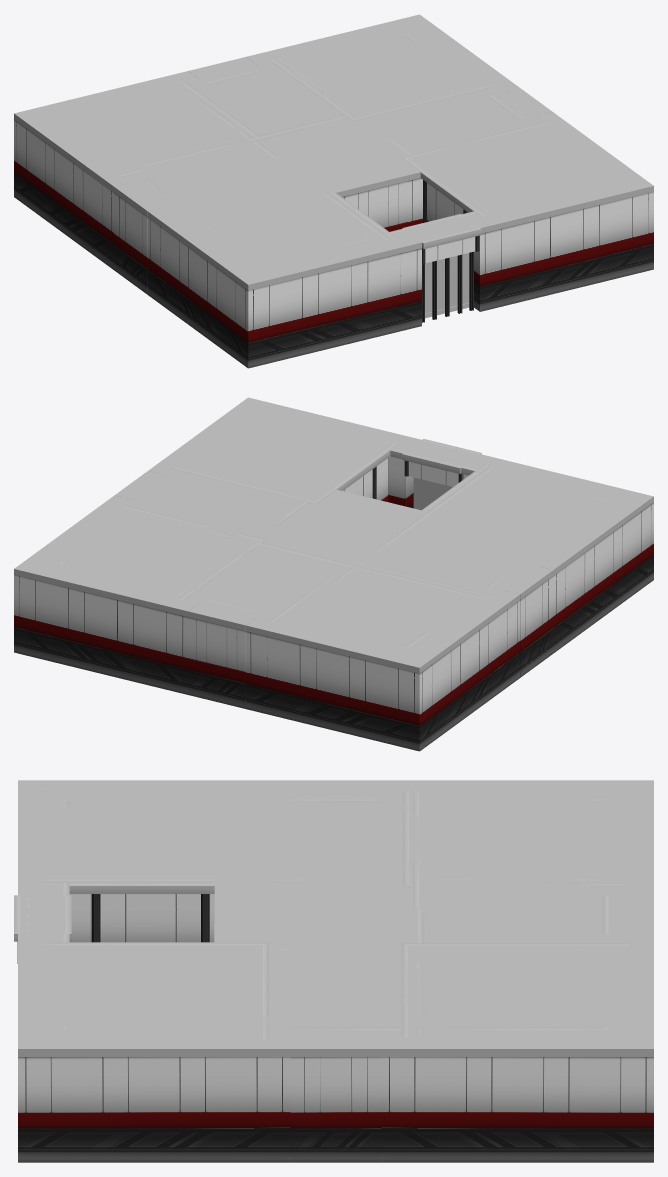
Rendered from RoomPrison.FBX.
3 views of the same model, one above another, from view 1: azimuth 30°, elevation 25°; view 2: azimuth 150°, elevation 25°; view 3: azimuth 270°, elevation 25° (orthographic). The views are drawn at different scales.
Visible parts, largest first — view 1: Wall0 (×8), Wall2 (×4), Box501, Box496, Box503, Wall3, Wall1 (×2), Box204, Box205, Box098, Box206; view 2: Wall0 (×8), Wall2 (×4), Box501, Box496, Box503, Wall1 (×2), Wall3, Box204, Box205, Box098; view 3: Wall0 (×8), Wall2 (×4), Box501, Box496, Box503, Box098, Wall3, Wall1 (×2), Box204.
Boxes of the visible parts, x1,y1,x2,y2 form: Wall0 (×8): (14,14,653,368); Wall2 (×4): (43,25,627,341); Box501: (125,81,542,231); Box496: (44,27,487,173); Box503: (45,84,390,271); Wall3: (277,27,622,213); Wall1 (×2): (114,57,264,294); Box204: (402,214,481,264); Box205: (443,253,469,313); Box098: (488,88,553,120); Box206: (425,259,443,318); Wall0 (×8): (14,397,653,751); Wall2 (×4): (41,409,590,724); Box501: (125,455,562,600); Box496: (44,523,488,683); Box503: (277,466,622,655); Wall1 (×2): (188,565,553,708); Wall3: (45,410,387,598); Box204: (402,439,481,486); Box205: (413,477,442,510); Box098: (114,471,178,502); Wall0 (×8): (18,780,653,1162); Wall2 (×4): (43,791,628,1128); Box501: (214,792,424,1128); Box496: (412,792,622,1036); Box503: (46,793,625,882); Box098: (290,1027,381,1162); Wall3: (46,947,625,1035); Wall1 (×2): (290,780,653,933); Box204: (14,895,71,963).
Bounding box in the file's own units: 140 × 141 × 27.57.
